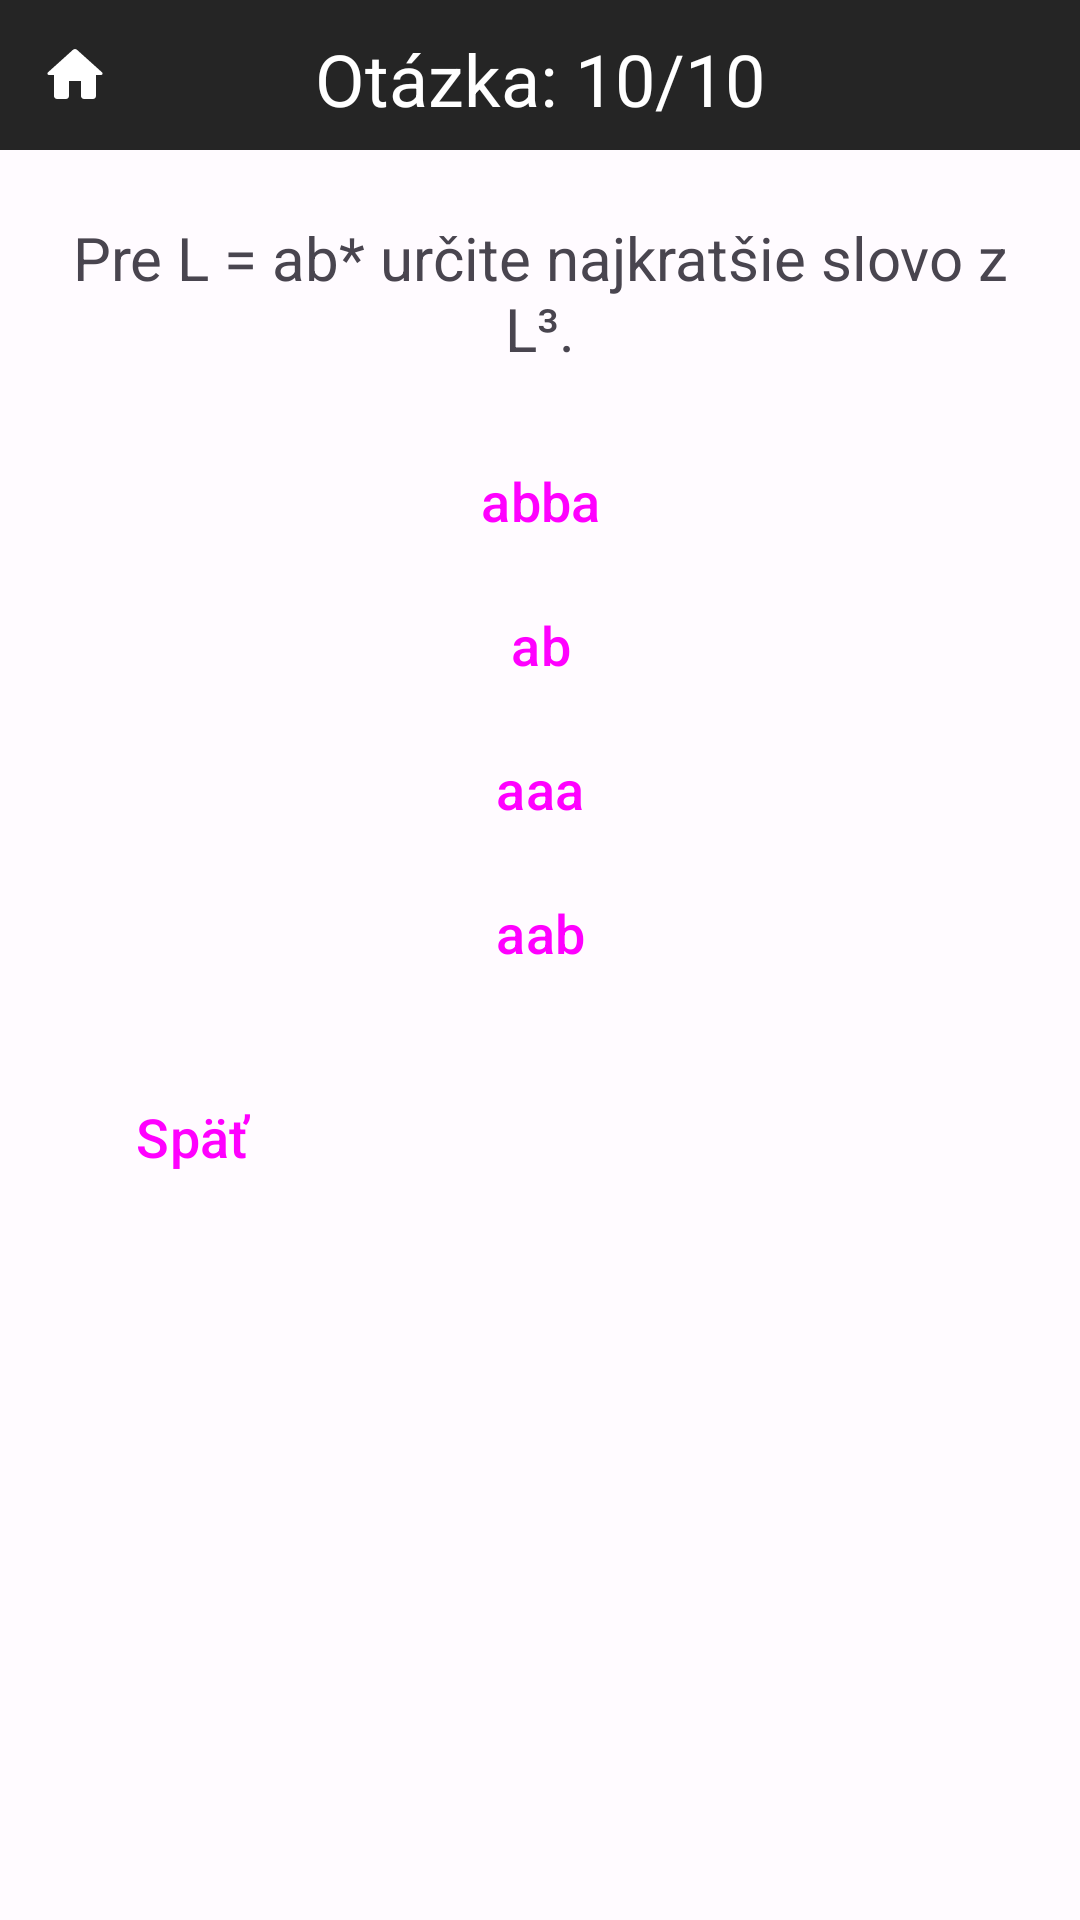

Named icons in this screenshot (1080 × 1920) and their bounding boxes, (x1, y1, x2, y2):
domov: (47, 49, 103, 99)
